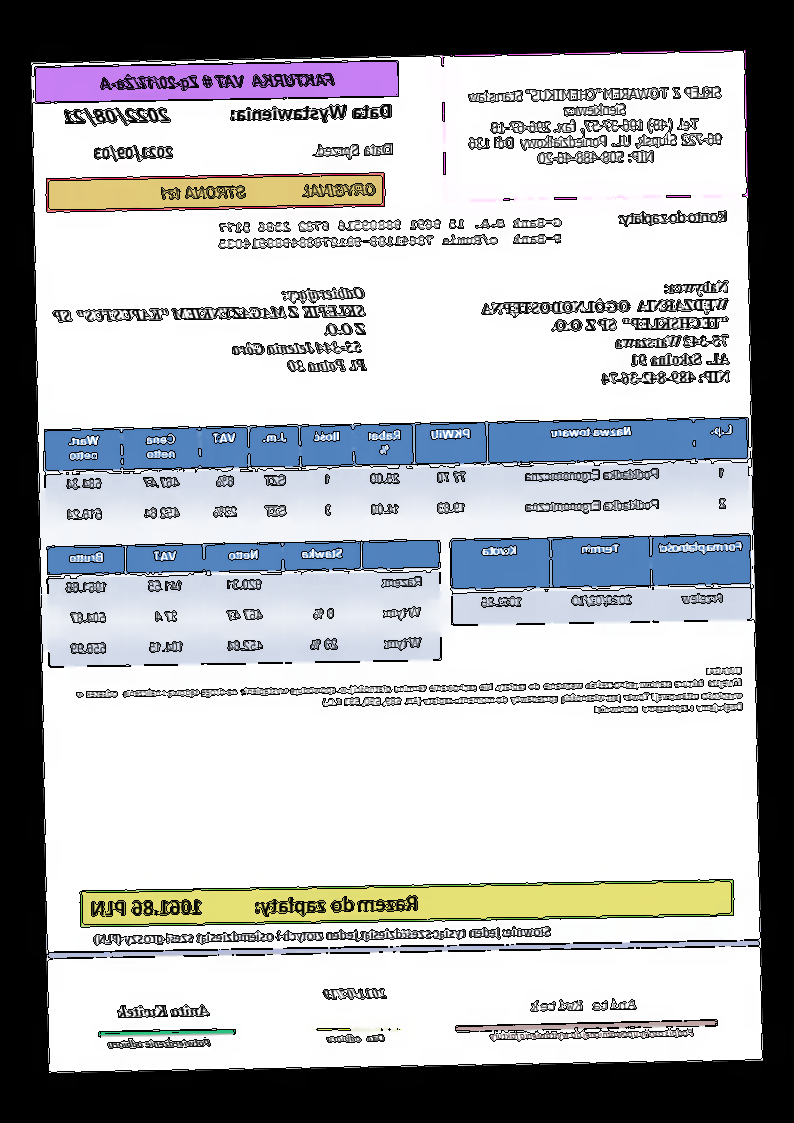Table: (43, 414, 752, 537), (46, 539, 446, 669), (447, 531, 754, 628)
TextBox: (72, 662, 745, 726), (51, 285, 370, 382), (476, 277, 734, 392), (463, 81, 729, 170), (215, 214, 568, 252), (92, 921, 555, 948), (88, 889, 421, 919), (94, 66, 340, 95), (158, 180, 378, 203), (227, 100, 396, 127), (485, 1026, 698, 1043), (61, 102, 172, 127), (616, 207, 732, 229), (306, 140, 398, 160), (532, 996, 639, 1013), (113, 1002, 214, 1020), (91, 145, 176, 163), (104, 1037, 213, 1051), (319, 985, 388, 1002), (322, 1031, 387, 1045)
